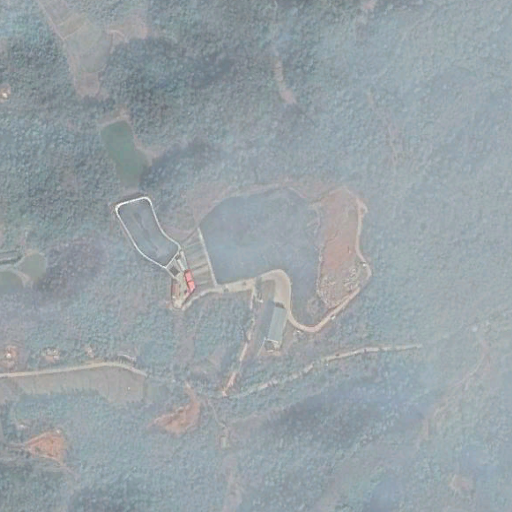lf: (190, 183, 375, 330)
